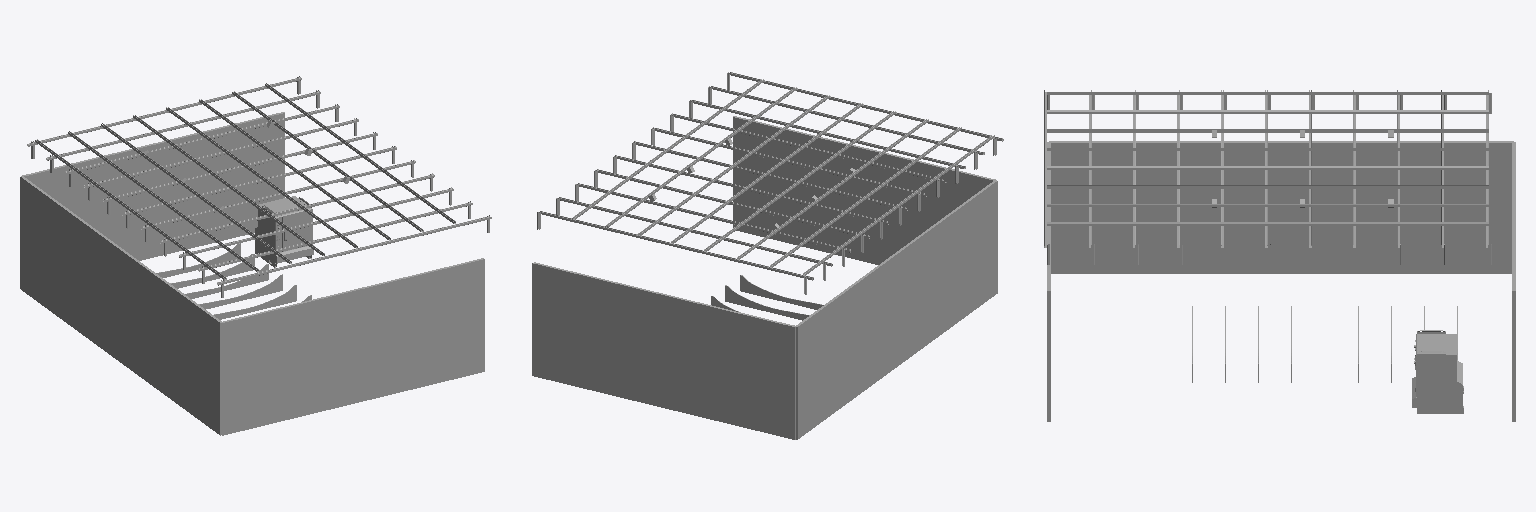
URDF robot description (wall):
<?xml version="1.0" ?>
<robot name="wall">
  <link name="world"/>
  <link name="T1">
    <collision name="collision">
      <geometry>
        <mesh filename="package://abb_irb6640_support/meshes/Scene/T1.stl" scale="0.5 0.5 0.5"/>
      </geometry>
    </collision>
    <visual name="visual">
      <geometry>
        <mesh filename="package://abb_irb6640_support/meshes/Scene/T1.stl" scale="0.5 0.5 0.5"/>
      </geometry>
      <material name="DarkGrey">
        <color rgba="0.7 0.7 0.7 0.5"/>
      </material>
    </visual>
  </link>
  <link name="T2">
    <collision name="collision">
      <geometry>
        <mesh filename="package://abb_irb6640_support/meshes/Scene/T1.stl" scale="0.5 0.5 0.5"/>
      </geometry>
    </collision>
    <visual name="visual">
      <geometry>
        <mesh filename="package://abb_irb6640_support/meshes/Scene/T1.stl" scale="0.5 0.5 0.5"/>
      </geometry>
      <material name="DarkGrey">
        <color rgba="0.7 0.7 0.7 0.5"/>
      </material>
    </visual>
  </link>
  <link name="T3">
    <collision name="collision">
      <geometry>
        <mesh filename="package://abb_irb6640_support/meshes/Scene/T3.stl" scale="0.5 0.5 0.5"/>
      </geometry>
    </collision>
    <visual name="visual">
      <geometry>
        <mesh filename="package://abb_irb6640_support/meshes/Scene/T3.stl" scale="0.5 0.5 0.5"/>
      </geometry>
      <material name="DarkGrey">
        <color rgba="0.7 0.7 0.7 0.5"/>
      </material>
    </visual>
  </link>
  <link name="Ceiling">
    <collision name="collision">
      <geometry>
        <mesh filename="package://abb_irb6640_support/meshes/Scene/TestBed_scene5.STL"/>
      </geometry>
    </collision>
    <visual name="visual">
      <geometry>
        <mesh filename="package://abb_irb6640_support/meshes/Scene/TestBed_scene5.STL"/>
      </geometry>
      <material name="DarkGrey">
        <color rgba="0.7 0.7 0.7 0.5"/>
      </material>
    </visual>
  </link>

  <joint name="T1_joint" type="fixed">
    <parent link="world"/>
    <child link="T1"/>
    <origin rpy="0 0 0" xyz="1.5384 -3.8262 1"/>
  </joint>
  <joint name="T2_joint" type="fixed">
    <parent link="world"/>
    <child link="T2"/>
    <origin rpy="0 0 0" xyz="1.5384 2.6 1"/>
  </joint>
  <joint name="T3_joint" type="fixed">
    <parent link="world"/>
    <child link="T3"/>
    <origin rpy="0 0 0" xyz="-0.9 -0.6131 1"/>
  </joint>
   <joint name="Ceiling_joint" type="fixed">
    <parent link="world"/>
    <child link="Ceiling"/>
    <origin rpy="1.570796 0 3.1415926" xyz="-0.9 -4.377 0"/> 
  </joint>

  <gazebo>
    <static>true</static>
  </gazebo>
</robot>

--- Facts derived from the render (not from the file) ---
The picture shows the robot from 3 angles, left to right: view 1: azimuth 30°, elevation 25°; view 2: azimuth 150°, elevation 25°; view 3: azimuth 270°, elevation 25°; orthographic projection.
Robot: wall — 5 links, 4 joints (4 fixed); root link world; default pose: every joint at zero.
Visible links, largest first — view 1: T1, T3, Ceiling, T2; view 2: T2, T3, Ceiling, T1; view 3: T3, Ceiling, T2, T1.
Link boxes in pixels (<box>): T1: <box>221,258,484,435</box>; T3: <box>20,176,221,435</box>; Ceiling: <box>27,76,491,319</box>; T2: <box>22,112,284,260</box>; T2: <box>532,262,796,439</box>; T3: <box>795,180,997,439</box>; Ceiling: <box>537,72,1003,325</box>; T1: <box>733,116,995,264</box>; T3: <box>1049,141,1513,273</box>; Ceiling: <box>1044,90,1491,413</box>; T2: <box>1512,142,1515,421</box>; T1: <box>1047,142,1050,421</box>.
Bounding box of the posed robot: 5.08 × 6.51 × 2.82 m (x, y, z).
Meshes: 3 distinct files referenced, 4 mesh visuals loaded (3 binary STL).
